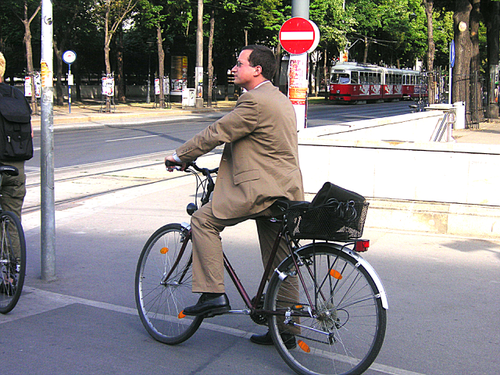bikerider: (110, 35, 398, 375)
